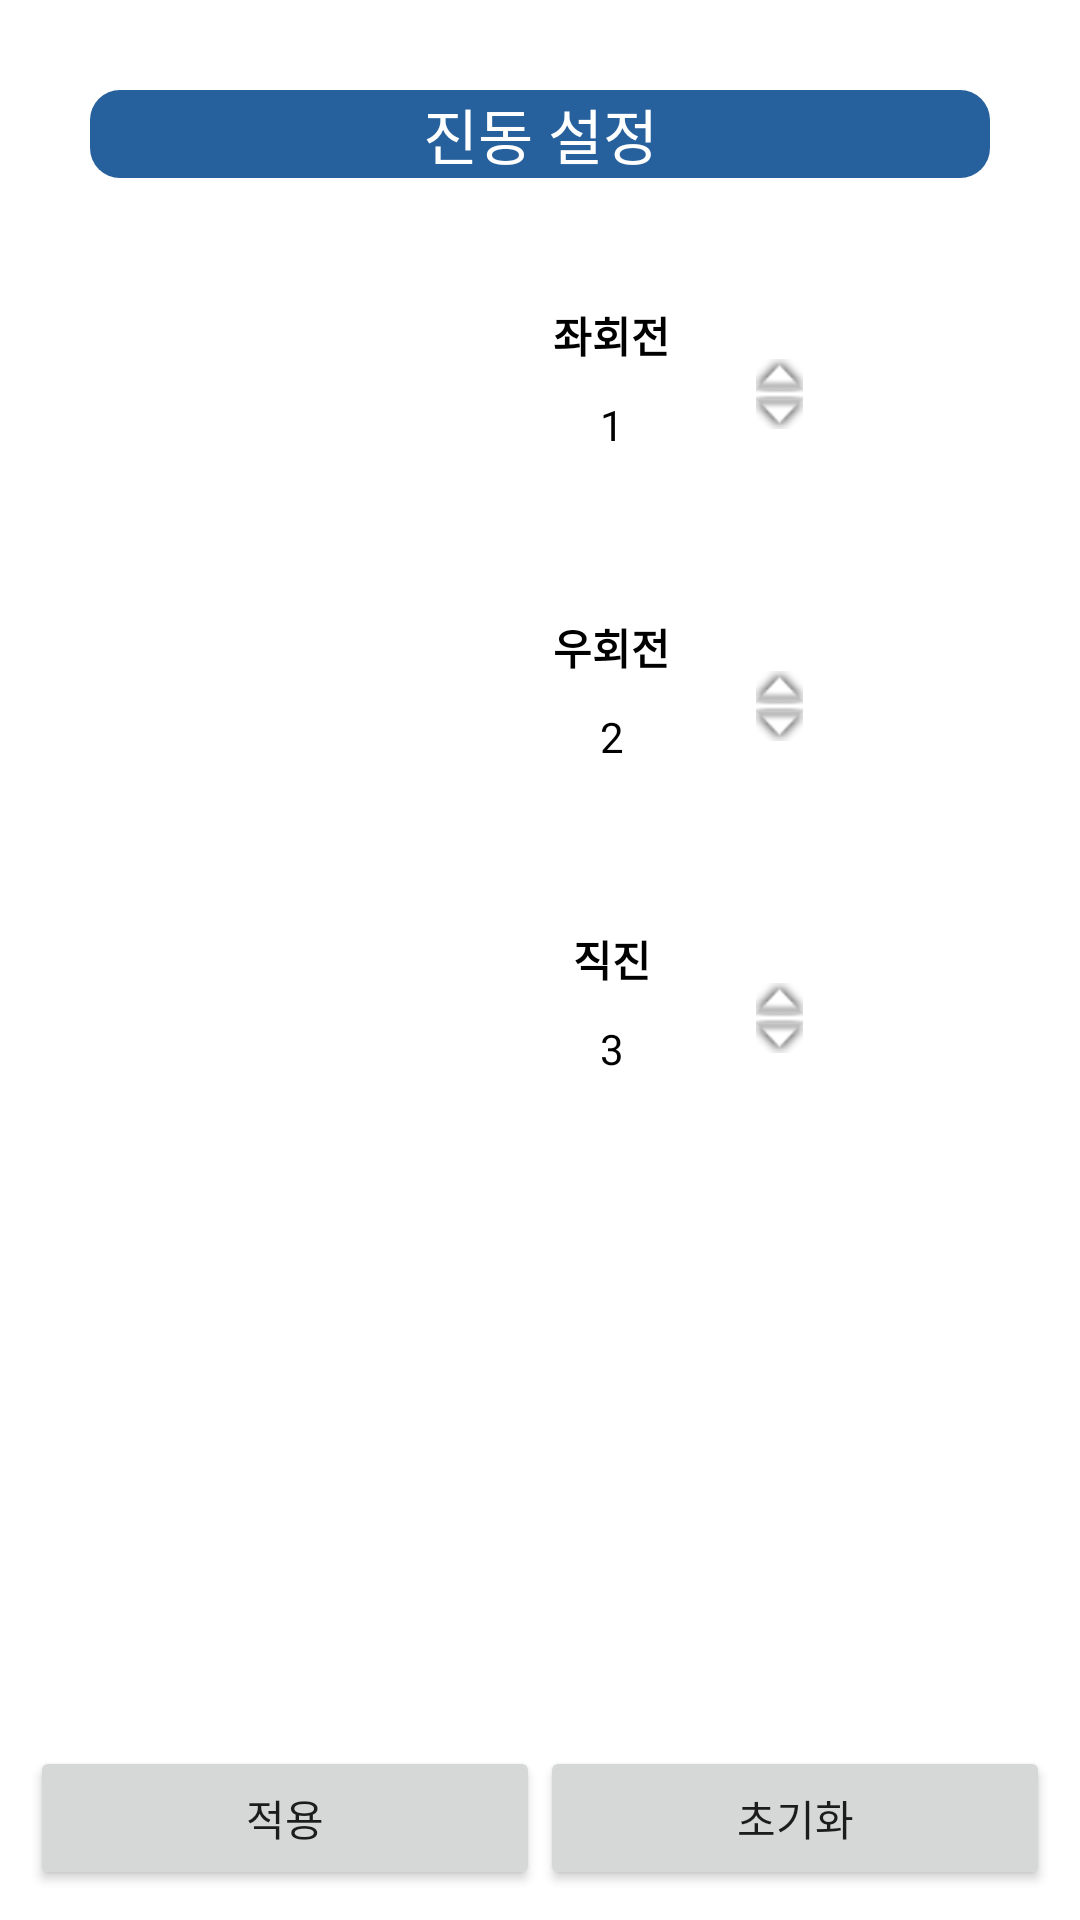

Named icons in this screenshot (1080×1920) and their bounding boxes, (x1, y1, x2, y2):
arrow down float: (756, 396, 803, 428), (756, 708, 803, 740), (756, 1020, 803, 1052)
arrow up float: (756, 360, 803, 392), (756, 672, 803, 704), (756, 984, 803, 1016)
